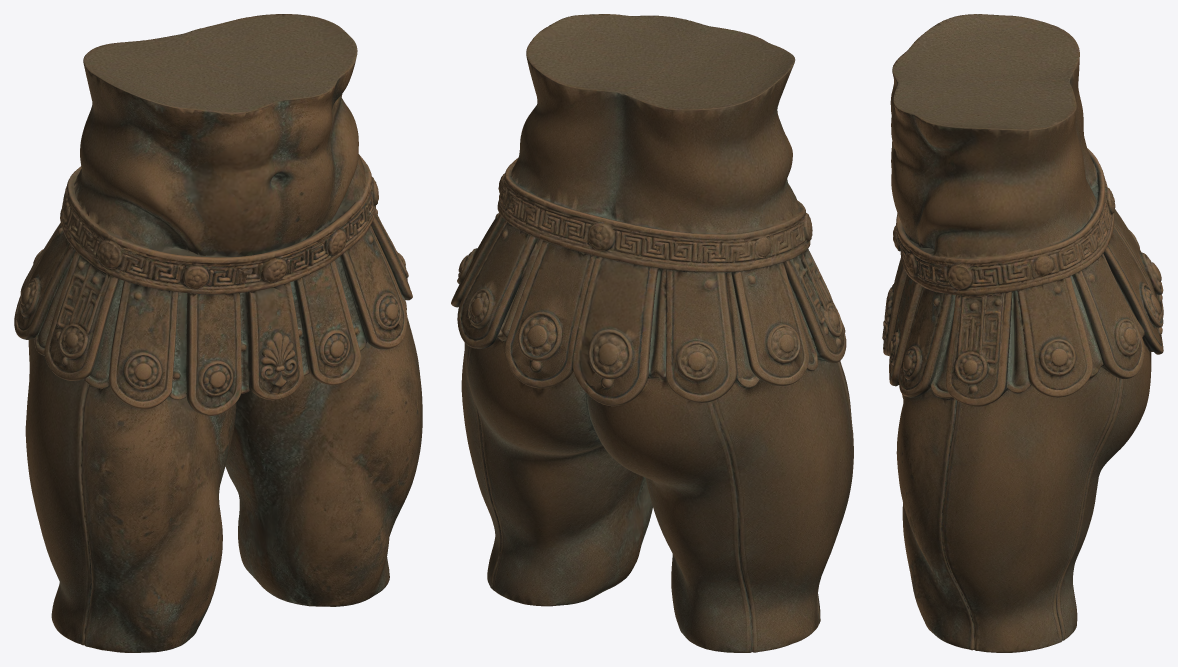
Rendered from bronze_thighs.glb.
3 renders of one model, left to right at view 1: azimuth 30°, elevation 25°; view 2: azimuth 150°, elevation 25°; view 3: azimuth 270°, elevation 25°, orthographic. The views are drawn at different scales.
Parts seen in each view (by area): view 1: mesh_node; view 2: mesh_node; view 3: mesh_node.
Boxes of the visible parts, x1,y1,x2,y2 form: mesh_node: (14,14,422,652); mesh_node: (451,14,853,652); mesh_node: (882,14,1163,652).
Size of the model in its own units: 1.31 by 1.9 by 0.9448.
Materials: 1 (1 with a texture image).
